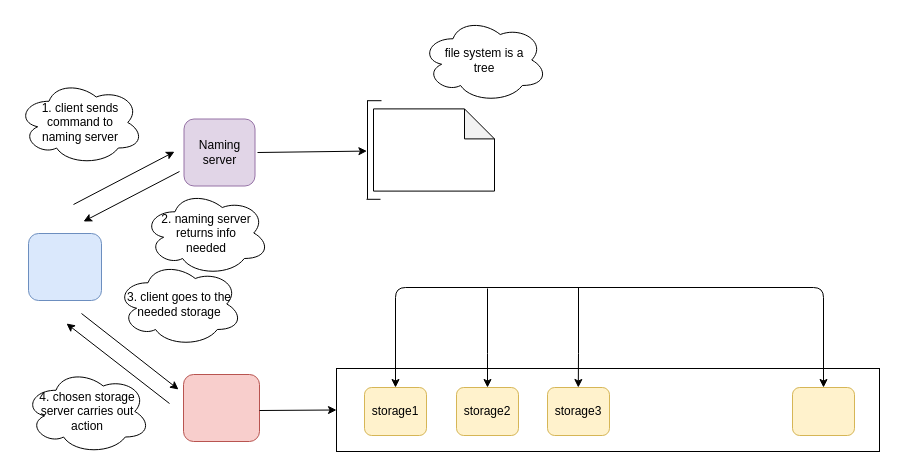
Image size: 897x472. Some labels were removed from this diagram. The centre of each missing label's shape, as x and y in pixels:
Client: pixel 65 266
File system: pixel 433 149
Storage server: pixel 221 408
storageN: pixel 823 411
